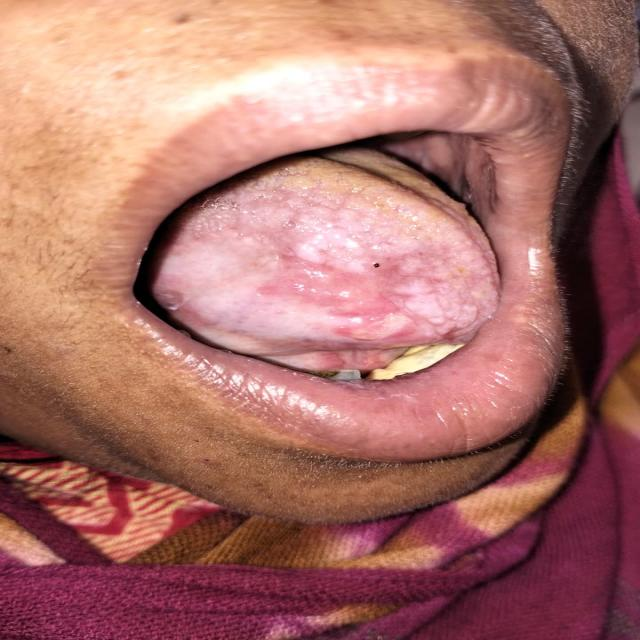leukoplakia-like-detection: (166, 209, 498, 354)
processing_area: (158, 132, 515, 371)
